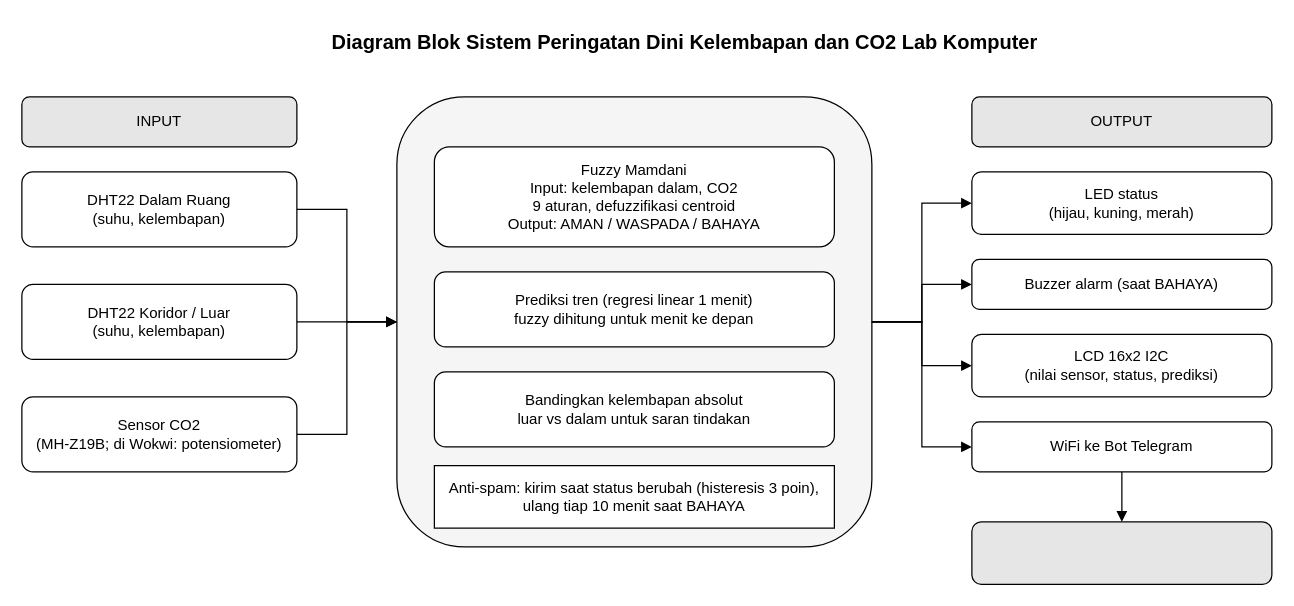
The diagram is 1294 pixels wide and 606 high, and some of its shapes have lost their labels. Each missing label, with the box of its shape:
ESP32 (PROSES): (396, 96, 872, 547)
HP pengelola lab (pesan status, penyebab, saran): (971, 521, 1272, 584)
